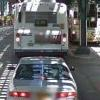buses: (10, 0, 72, 55)
